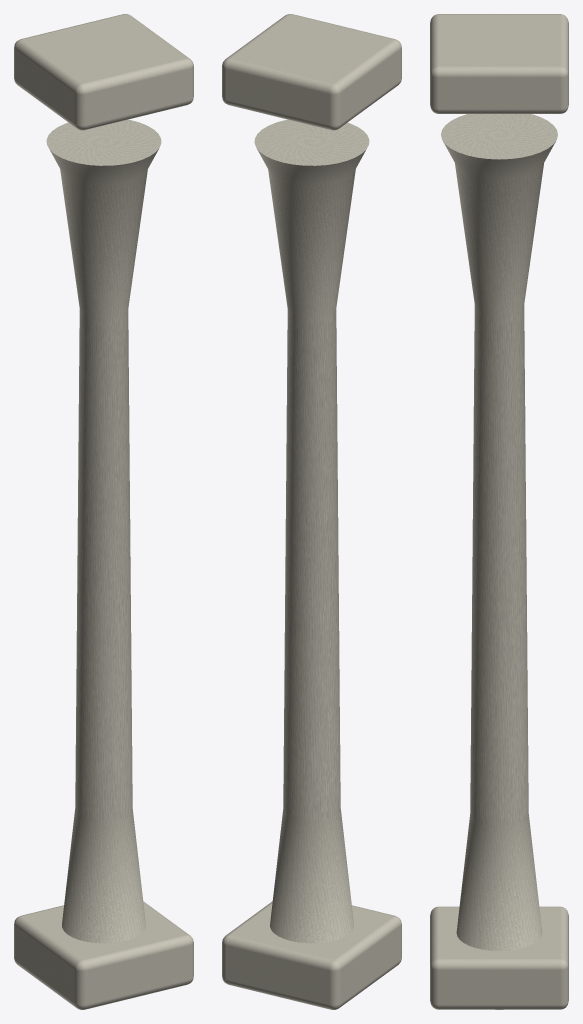
The model's file is arcane-academy-and-spell-trials-corner-pier-43d7e7a8__28273.glb.
3 views of the same model, side by side, from view 1: azimuth 30°, elevation 25°; view 2: azimuth 150°, elevation 25°; view 3: azimuth 270°, elevation 25° (orthographic).
Visible parts, largest first — view 1: corner-pier; view 2: corner-pier; view 3: corner-pier.
Part boxes in pixels (bbox=[...]): corner-pier: bbox=[14, 14, 193, 1009]; corner-pier: bbox=[222, 14, 401, 1009]; corner-pier: bbox=[430, 14, 568, 1009].
Size of the model in its own units: 0.3999 by 3 by 0.3999.
Materials: 1 (1 with a texture image).
